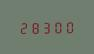eight: (29, 20, 39, 34)
three: (40, 20, 50, 33)
two: (18, 20, 28, 34)
zero: (51, 19, 61, 33), (62, 19, 72, 33)
